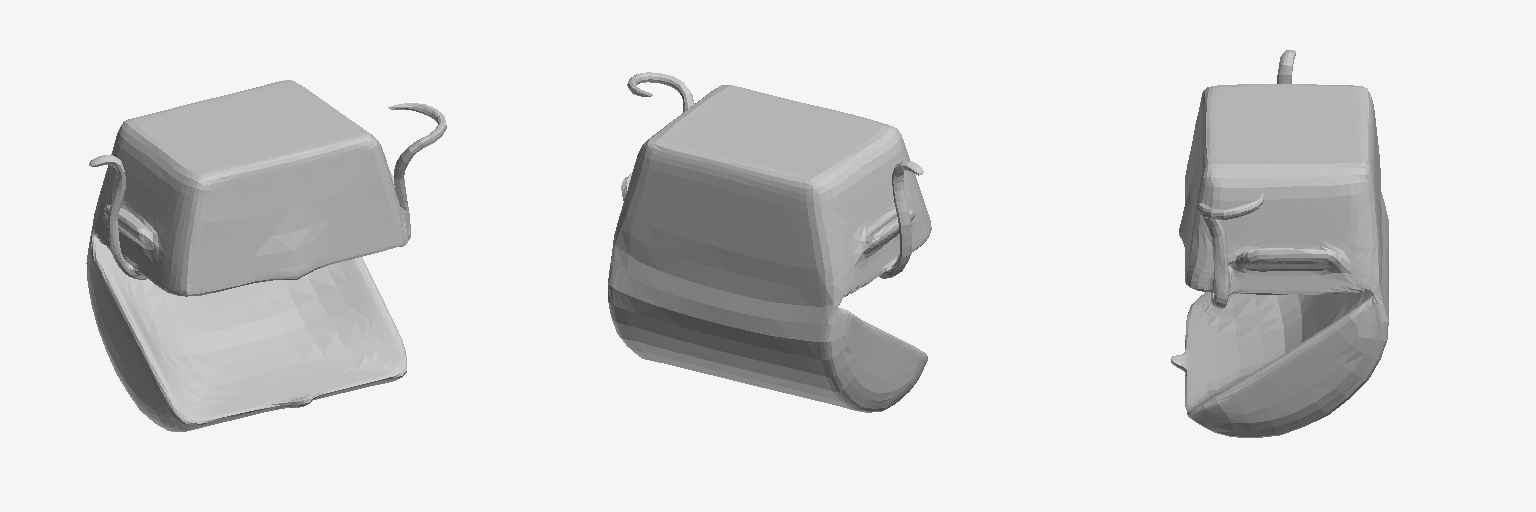
The model's file is chest.OBJ.
3 renders of one model, left to right at view 1: azimuth 30°, elevation 25°; view 2: azimuth 150°, elevation 25°; view 3: azimuth 270°, elevation 25°, orthographic.
Parts seen in each view (by area): view 1: Group47117; view 2: Group47117; view 3: Group47117.
Part boxes in pixels (x1,y1,x2,y2): Group47117: (86,80,446,431); Group47117: (608,72,931,412); Group47117: (1171,50,1388,437).
Bounding box in the file's own units: 84.69 × 66.68 × 49.8.